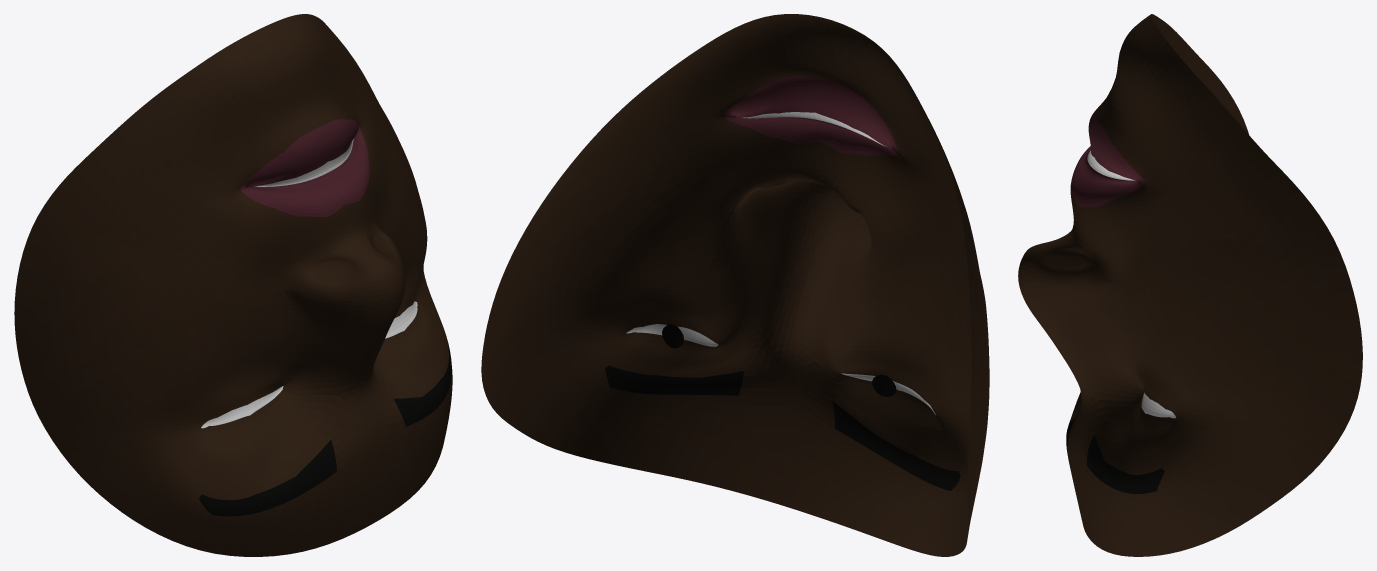
File: IMG_0048.obj
3 renders of one model, left to right at view 1: azimuth 30°, elevation 25°; view 2: azimuth 150°, elevation 25°; view 3: azimuth 270°, elevation 25°, orthographic. The views are drawn at different scales.
Parts seen in each view (by area): view 1: face_mesh_subdivided; view 2: face_mesh_subdivided; view 3: face_mesh_subdivided.
Boxes of the visible parts, left/top/right/bottom form: face_mesh_subdivided: left=14, top=14, right=452, bottom=556; face_mesh_subdivided: left=481, top=14, right=989, bottom=556; face_mesh_subdivided: left=1018, top=14, right=1362, bottom=556.
Bounding box in the file's own units: 0.5996 × 0.6921 × 0.4453.
